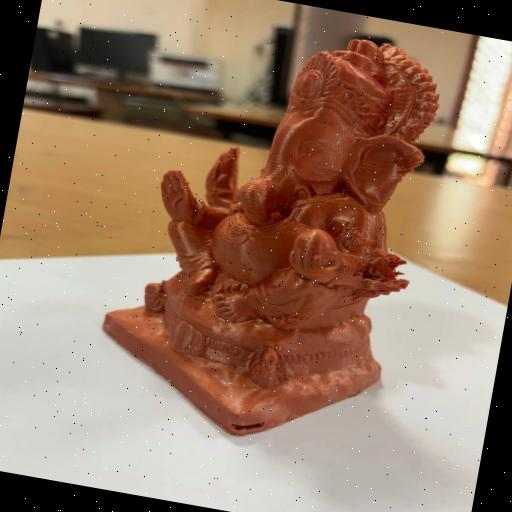cracks: (332, 234, 416, 302), (221, 400, 270, 450)
